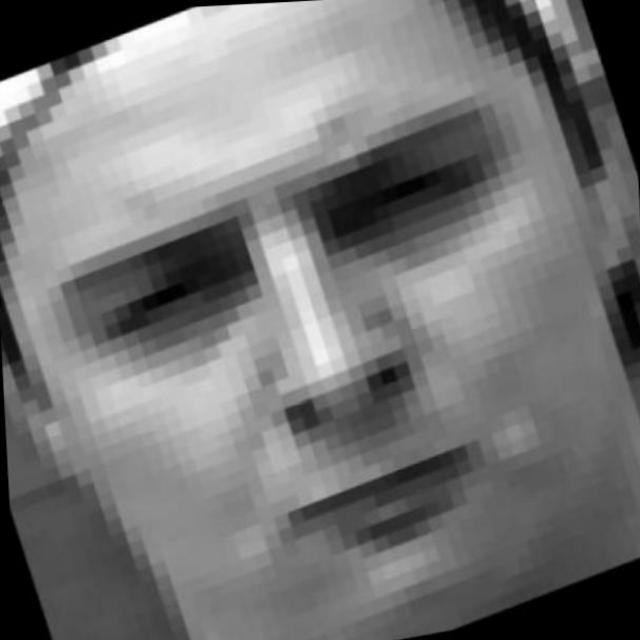Disgust: (5, 64, 640, 632)
